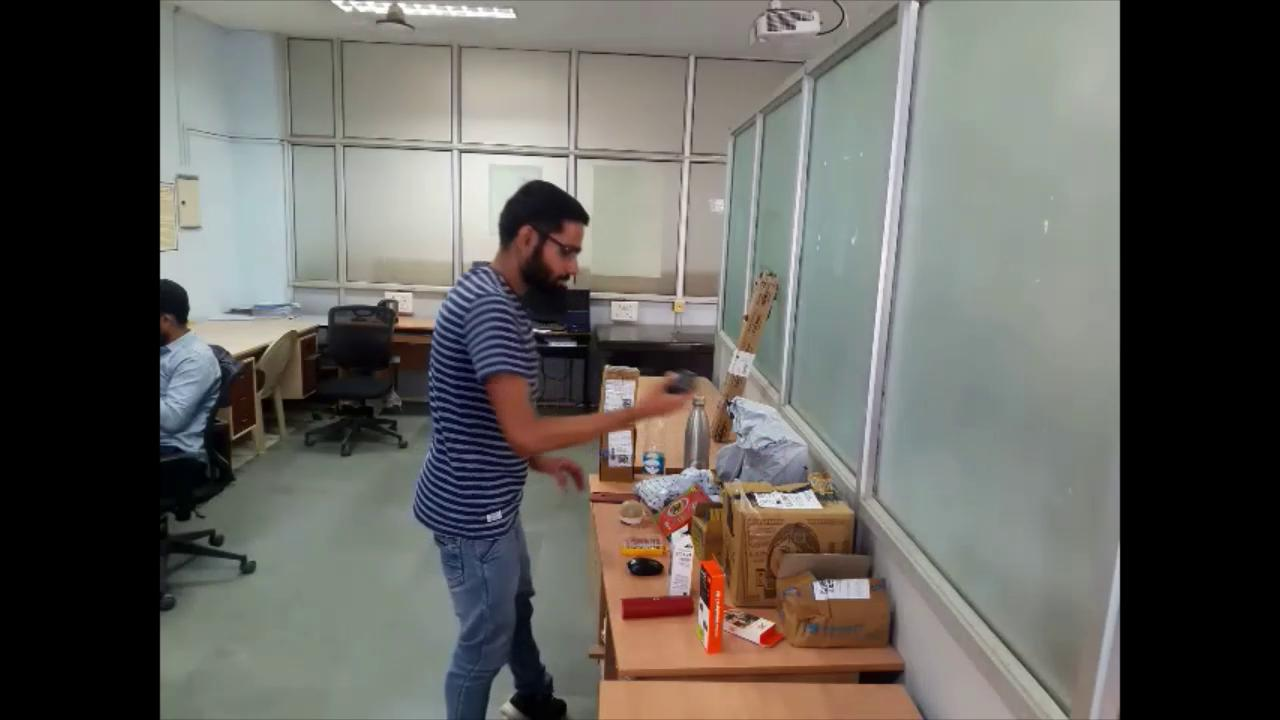Normal: (409, 167, 698, 720)
